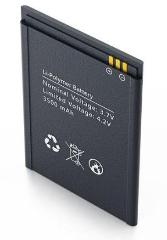electronic: (3, 1, 167, 239)
